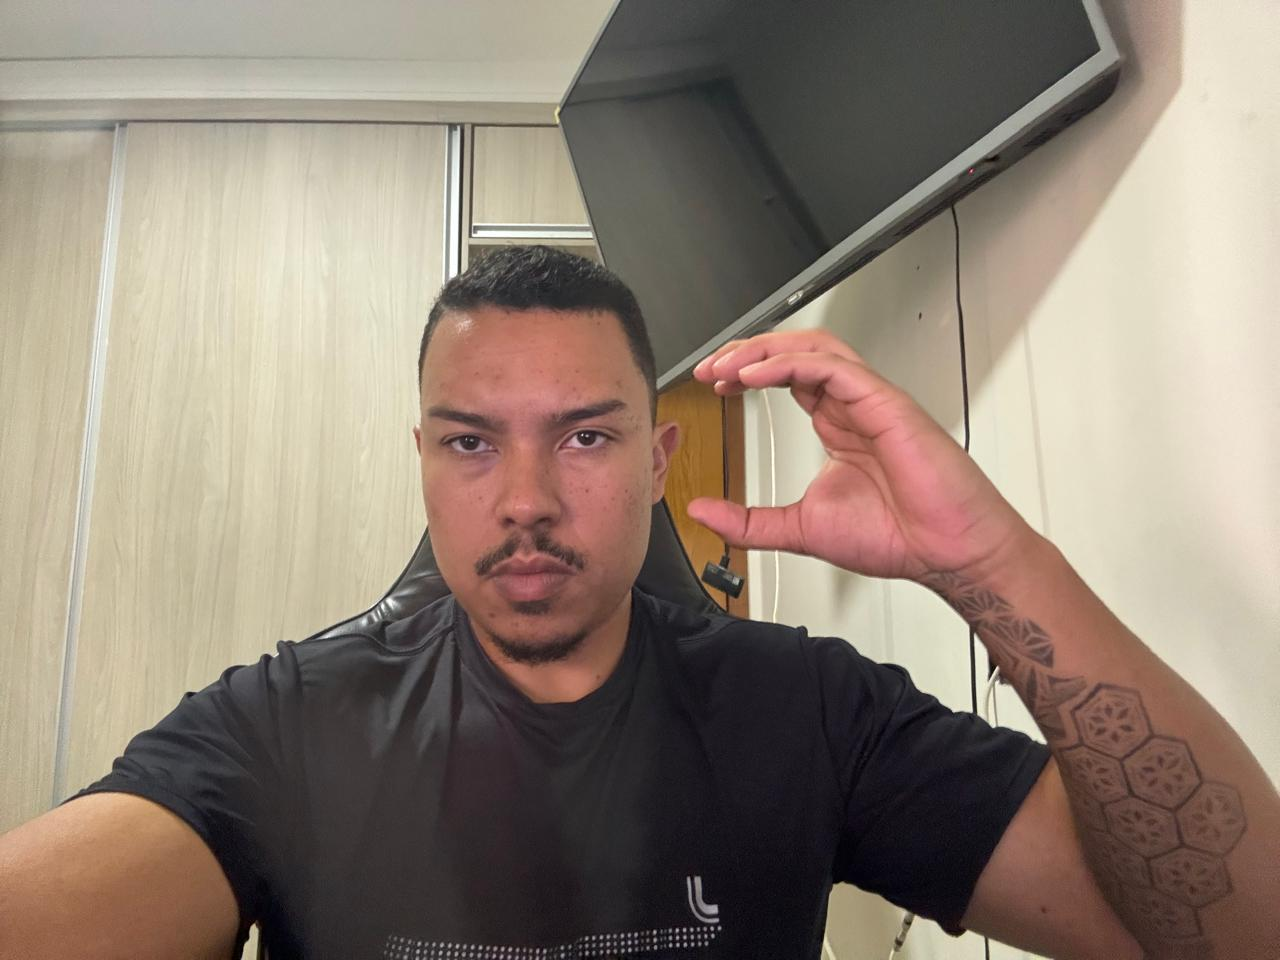c: (675, 318, 1022, 608)
